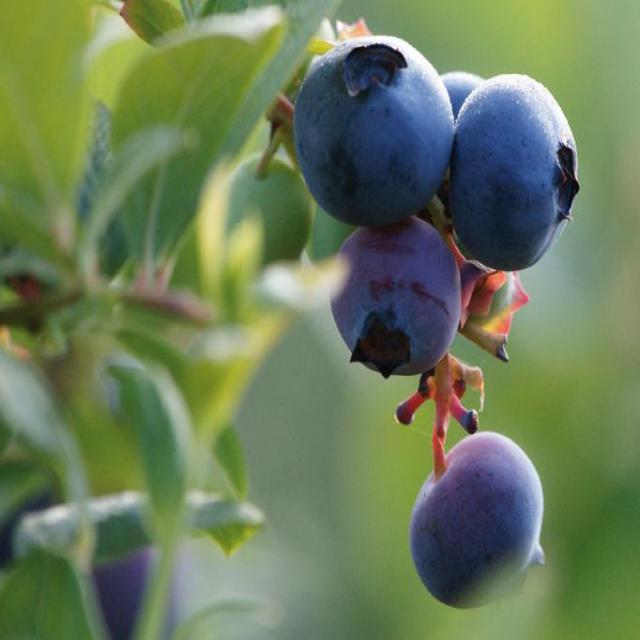BlueBerry - v1: (293, 27, 464, 222), (400, 418, 554, 622), (448, 63, 586, 272), (319, 202, 469, 386)
